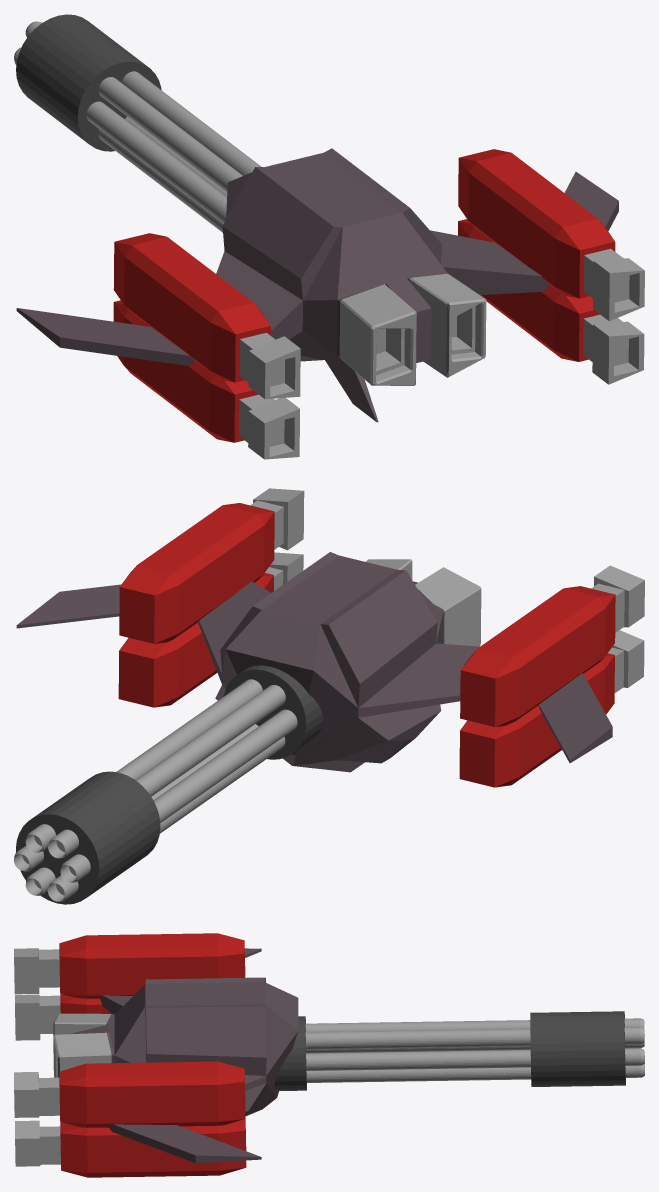
Rendered from ガトリング.fbx.
The picture shows the model from 3 angles, top to bottom: view 1: azimuth 30°, elevation 25°; view 2: azimuth 150°, elevation 25°; view 3: azimuth 270°, elevation 25°; orthographic projection. The views are drawn at different scales.
Visible parts, largest first — view 1: body, ガトリング; view 2: body, ガトリング; view 3: body, ガトリング.
Boxes of the visible parts, x1,y1,x2,y2 form: body: [16, 148, 644, 459]; ガトリング: [14, 14, 261, 232]; body: [16, 488, 644, 787]; ガトリング: [14, 665, 323, 904]; body: [14, 933, 298, 1177]; ガトリング: [274, 1011, 644, 1090].
Size of the model in its own units: 532 by 185 by 681.
